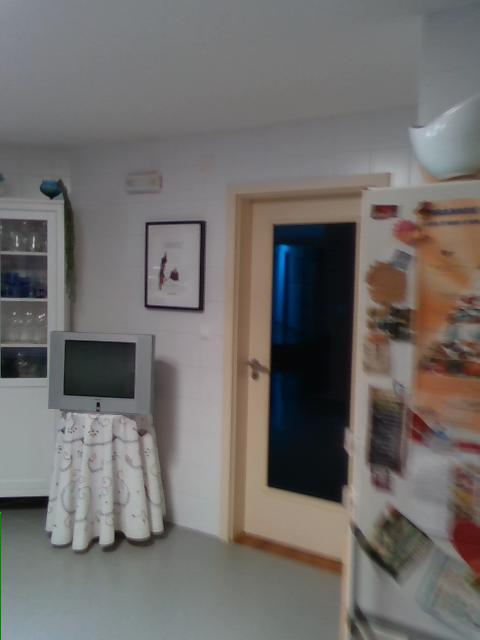door: (223, 170, 391, 566)
